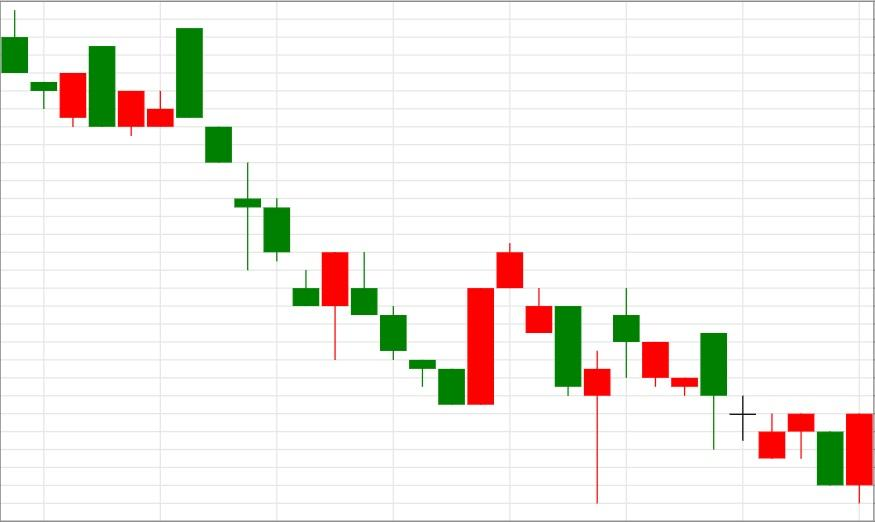bullish_engulfing_rise: (322, 251, 495, 405)
